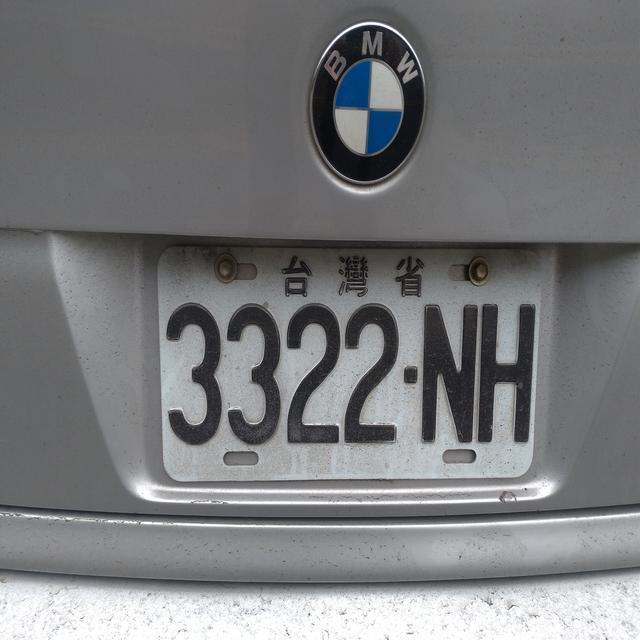license: (155, 292, 540, 453)
